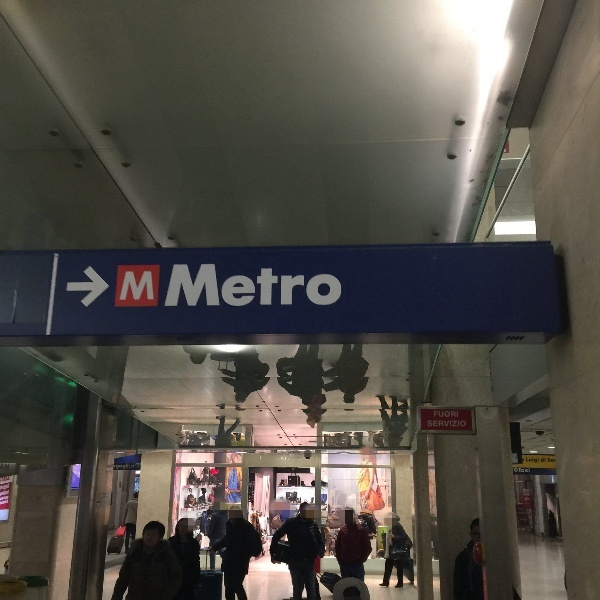text: (177, 262, 192, 309), (193, 262, 208, 309), (209, 262, 224, 309), (225, 262, 240, 309), (241, 262, 256, 309), (257, 262, 272, 309), (273, 262, 288, 309), (289, 262, 304, 309), (305, 262, 320, 309), (321, 262, 336, 309), (129, 270, 144, 302), (1, 476, 16, 506), (145, 270, 156, 302), (337, 262, 344, 309), (172, 262, 176, 309), (273, 451, 288, 461), (289, 451, 304, 461), (124, 270, 128, 302), (434, 410, 448, 419), (260, 451, 272, 461), (433, 420, 448, 428), (449, 420, 464, 428), (449, 410, 460, 419), (114, 463, 128, 470), (289, 456, 304, 462), (2, 464, 16, 470), (129, 463, 141, 470), (517, 508, 528, 515), (548, 457, 560, 463), (529, 457, 539, 464), (278, 456, 288, 462), (518, 467, 528, 473), (428, 420, 432, 428), (465, 420, 467, 428), (541, 458, 544, 463), (526, 457, 528, 464), (305, 456, 307, 462), (529, 467, 531, 473), (545, 458, 547, 463)
